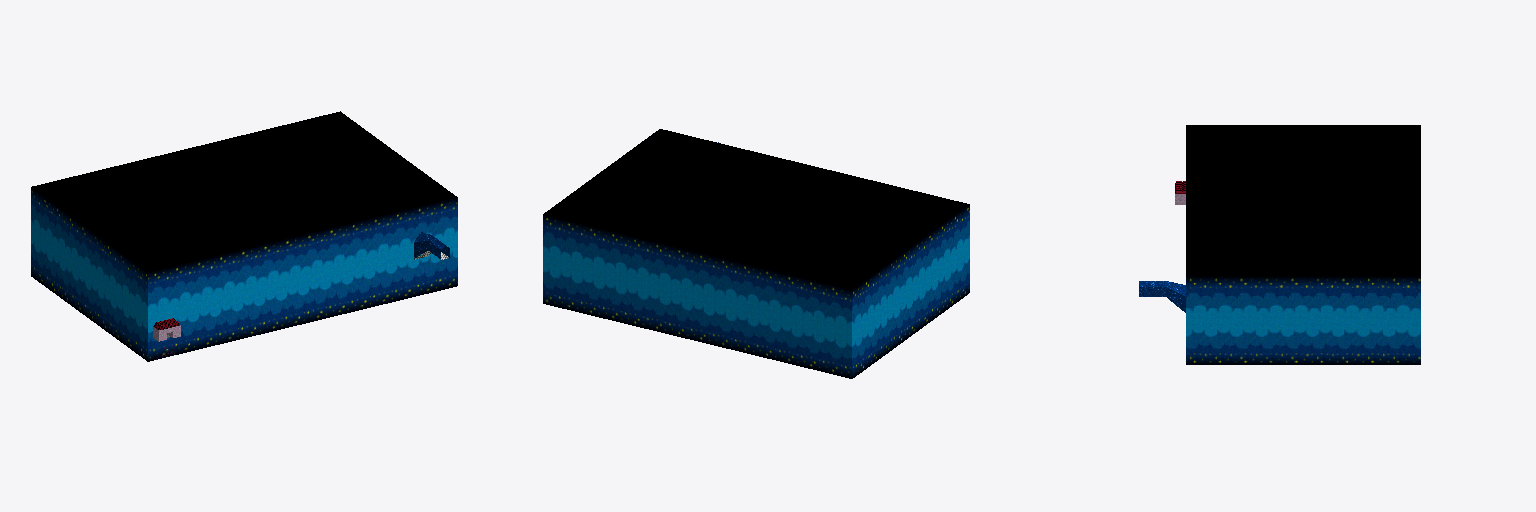
3 renders of one model, left to right at view 1: azimuth 30°, elevation 25°; view 2: azimuth 150°, elevation 25°; view 3: azimuth 270°, elevation 25°, orthographic.
Parts seen in each view (by area): view 1: mesh.012__106.004, mesh.012__38.002, mesh.012__105.008; view 2: mesh.012__106.004, mesh.012__38.002; view 3: mesh.012__38.002, mesh.012__106.004, mesh.012__105.008.
Boxes of the visible parts, x1=… form: mesh.012__106.004: x1=31, y1=187, x2=457, y2=361; mesh.012__38.002: x1=32, y1=111, x2=456, y2=272; mesh.012__105.008: x1=414, y1=231, x2=449, y2=258; mesh.012__106.004: x1=543, y1=204, x2=969, y2=378; mesh.012__38.002: x1=543, y1=129, x2=968, y2=289; mesh.012__38.002: x1=1186, y1=125, x2=1420, y2=275; mesh.012__106.004: x1=1186, y1=276, x2=1420, y2=364; mesh.012__105.008: x1=1139, y1=281, x2=1185, y2=312.
Size of the model in its own units: 10991 by 3757 by 8658.
Materials: 13 (9 with a texture image).